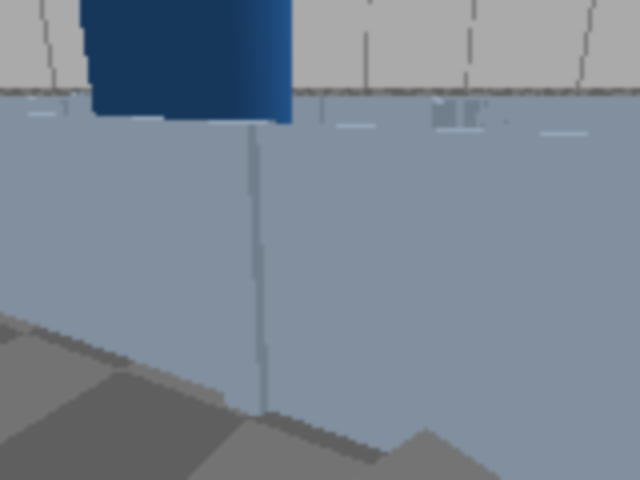obstacle: (224, 428, 638, 478)
person: (0, 0, 283, 312)
